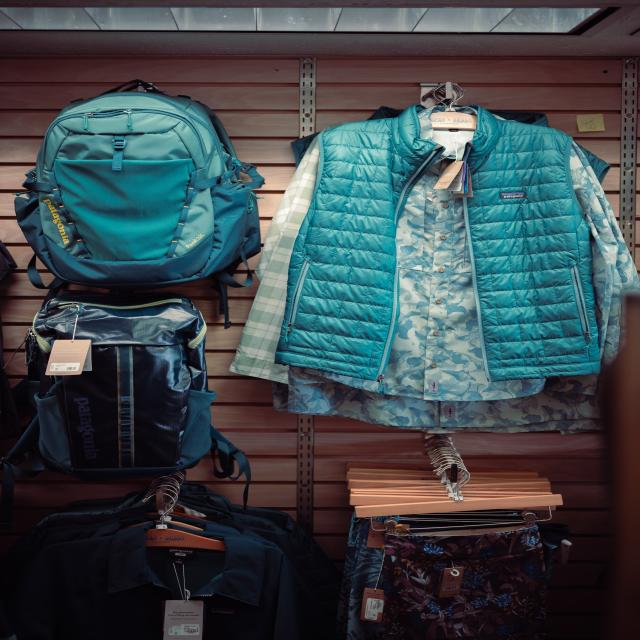backpack: (18, 77, 264, 289), (22, 285, 225, 477)
